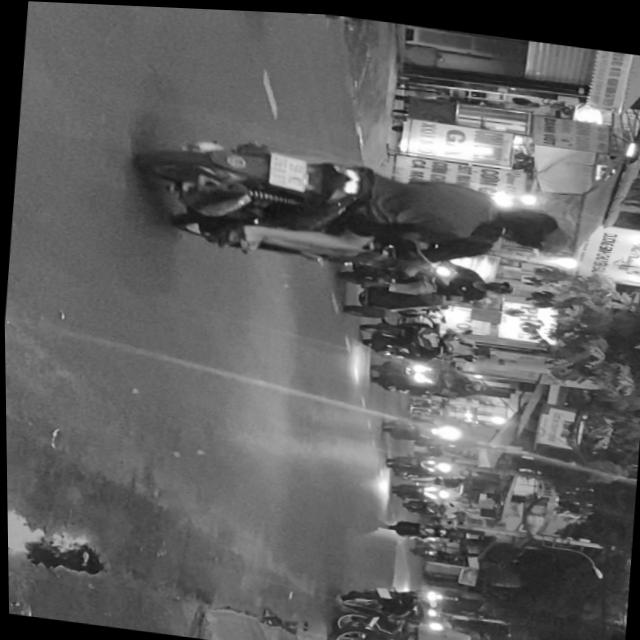helmet: (494, 212, 571, 250)
licenseplate: (123, 122, 580, 293)
motorcyclist: (482, 195, 562, 234), (483, 272, 515, 292)
nohelmet: (267, 150, 307, 190)
